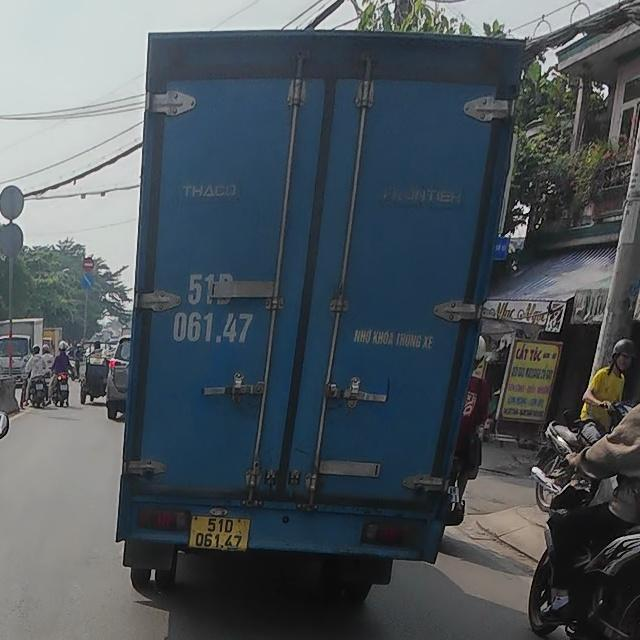license-plate: (188, 513, 249, 550)
